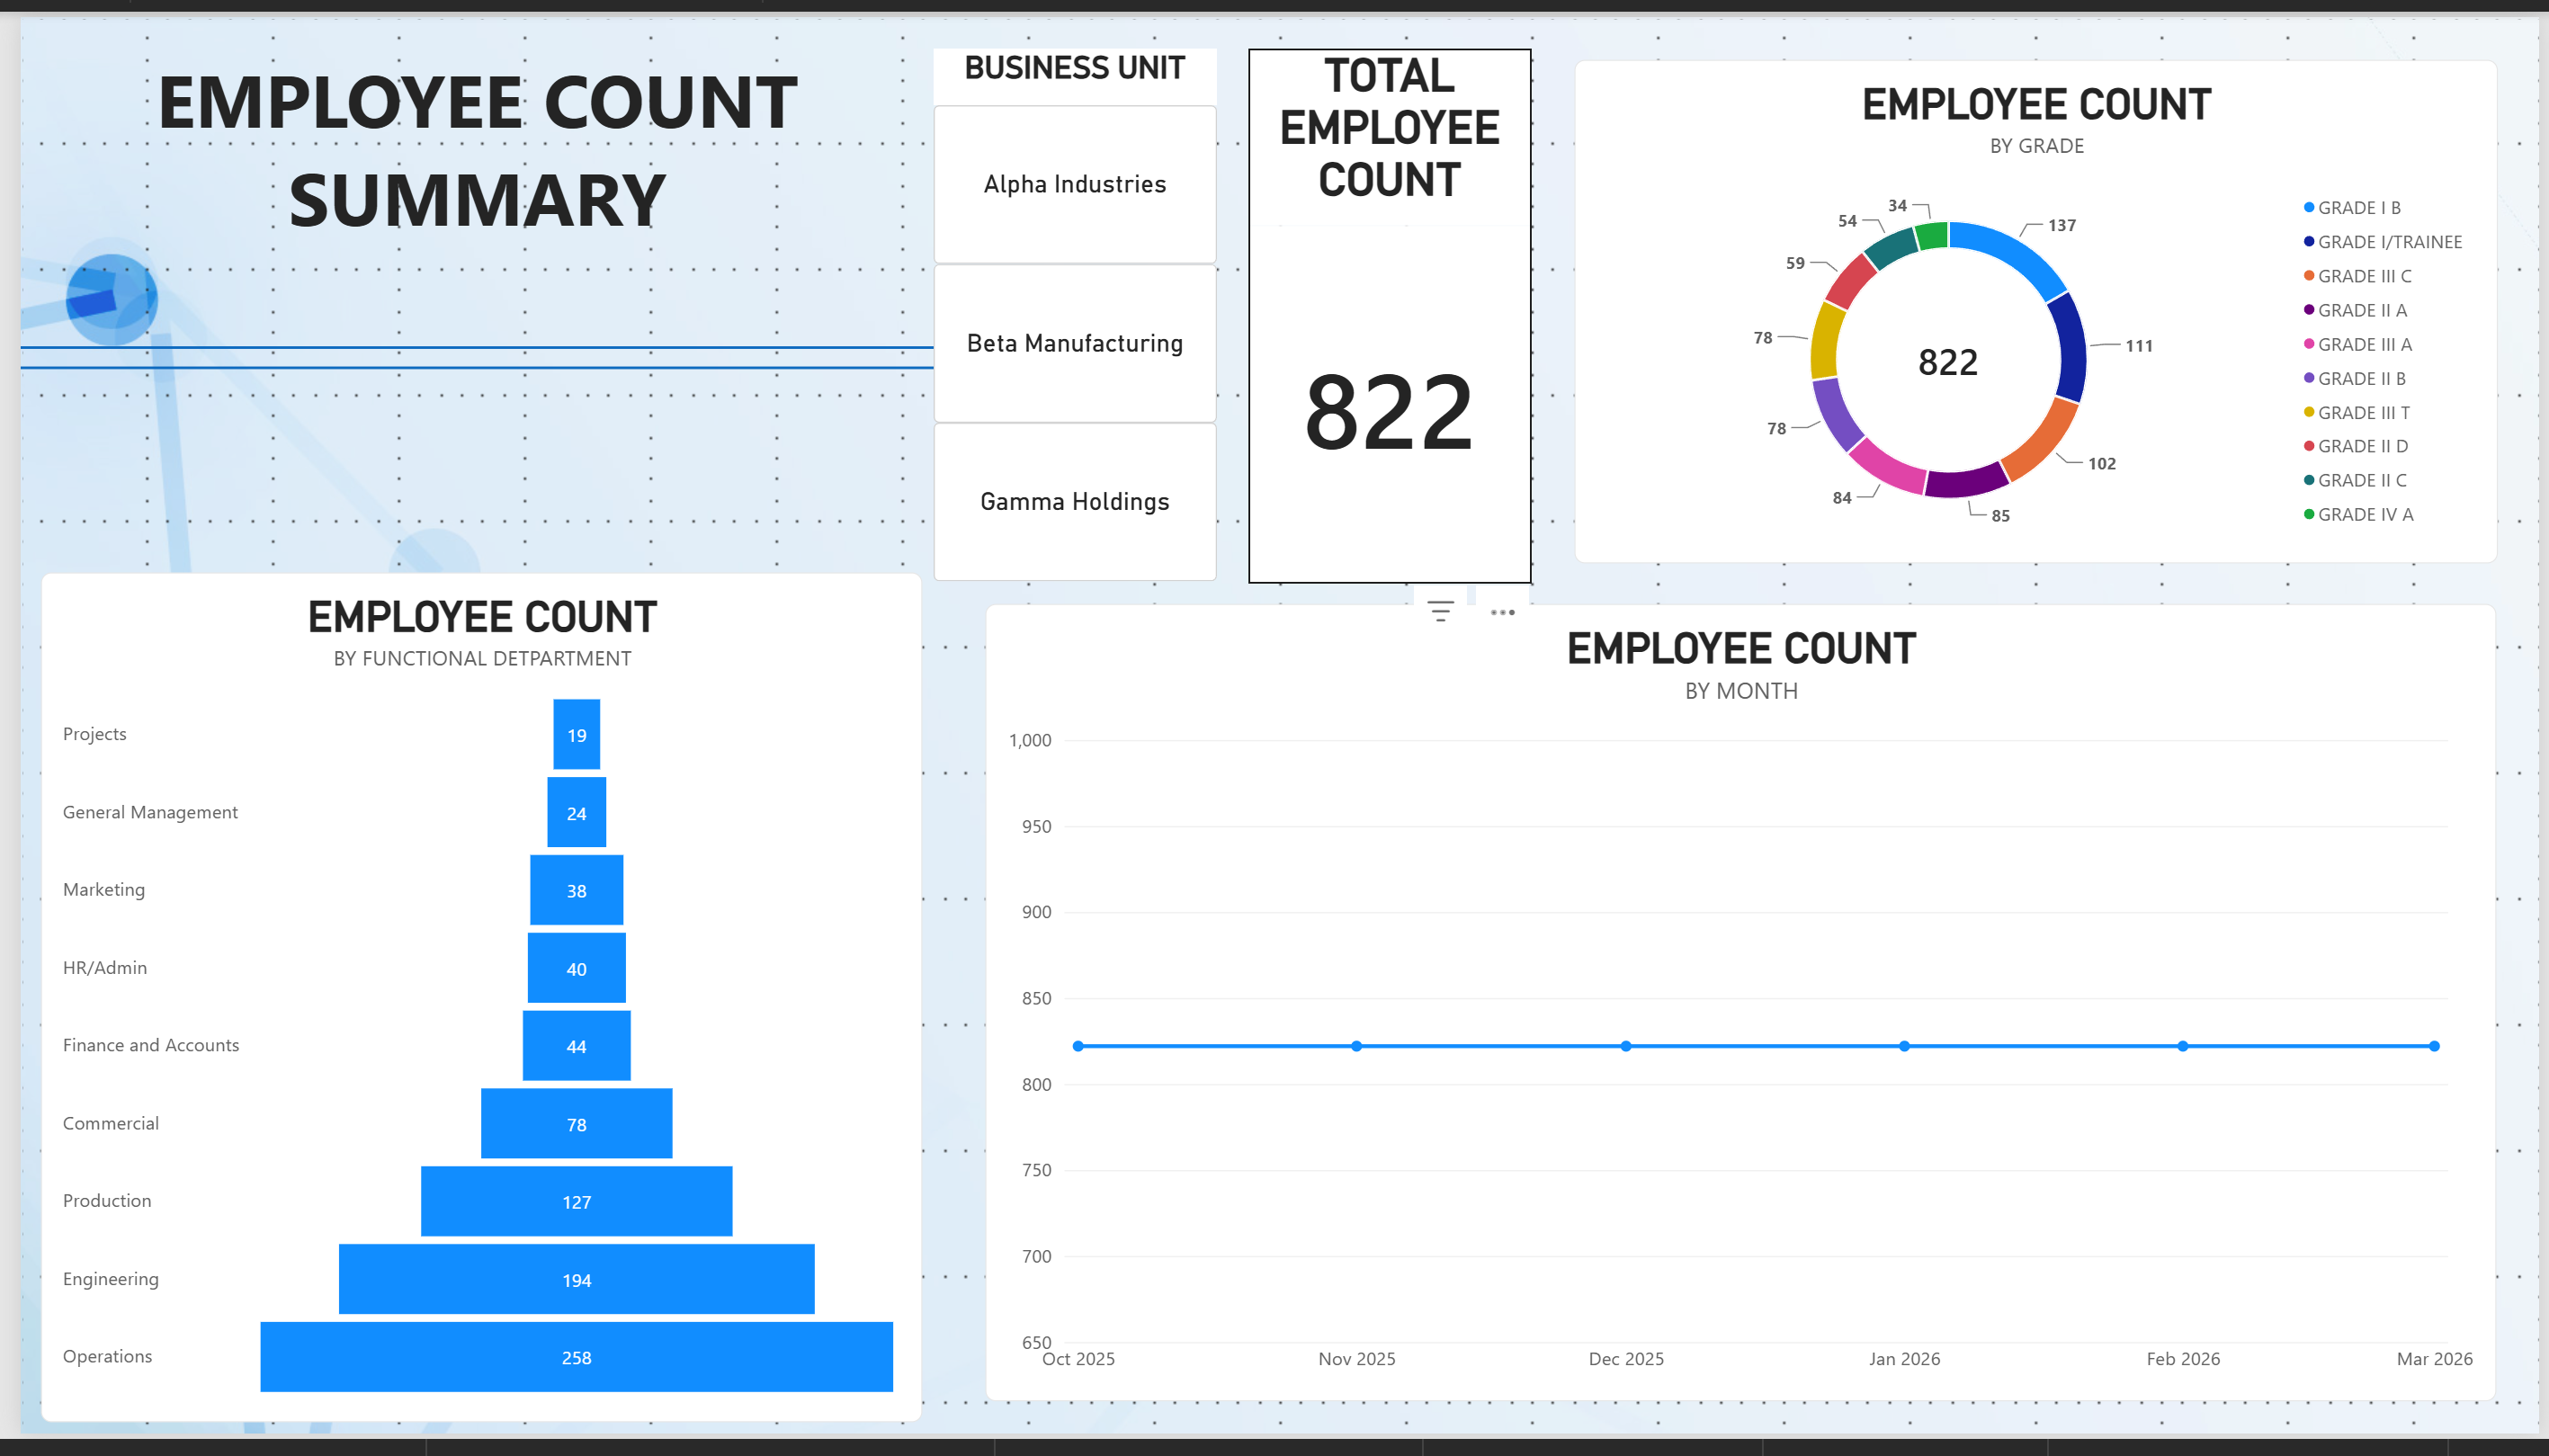

This screenshot's page, from the dashboard's own definition file:
{"tool":"powerbi","page":{"name":"EMPLOYEE COUNT OVERVIEW","canvas":[1920,1080],"ordinal":0},"visuals":[{"type":"funnel","title":"EMPLOYEE COUNT","fields":{"Y":["CountNonNull(DIM_EMP_NO.EMP_NO)"],"Category":["DIM_EMP_NO.FUNCTION_DEPT"]},"box":[16,424,672,648],"z":0},{"type":"lineChart","title":"EMPLOYEE COUNT","fields":{"Y":["CountNonNull(Salary Data.EMP_NO)"],"Category":["Salary Data.MONTH_YEAR"]},"box":[736,448,1152,608],"z":1000},{"type":"advancedSlicerVisual","title":"BUSINESS UNIT","fields":{"Values":["DIM_BUSINESS_UNIT.BUSINESS_UNIT"]},"box":[696,24,216,408],"z":2000},{"type":"cardVisual","title":"TOTAL EMPLOYEE COUNT","fields":{"Data":["Count(Salary Data.EMP_NO)"]},"box":[936,24,216,408],"z":3000},{"type":"donutChart","title":"EMPLOYEE COUNT","fields":{"Y":["CountNonNull(DIM_EMP_NO.EMP_NO)"],"Category":["DIM_EMP_NO.EMP_GRADE_NAME"]},"box":[1184,32,704,384],"z":4000},{"type":"textbox","box":[0,24,696,216],"z":5000},{"type":"shape","box":[0,96,696,312],"z":6000},{"type":"shape","box":[0,112,696,312],"z":7000}]}

Visuals, with their boxes in screenshot pixels (x1, y1, x2, y2), scaled from the page's 1920x1080 canvas onto the 2549x1456 screenshot:
"EMPLOYEE COUNT" funnel: 22,572,914,1445
"EMPLOYEE COUNT" lineChart: 977,604,2507,1424
"BUSINESS UNIT" advancedSlicerVisual: 924,32,1211,583
"TOTAL EMPLOYEE COUNT" cardVisual: 1243,32,1529,583
"EMPLOYEE COUNT" donutChart: 1572,43,2507,561
textbox: 0,32,924,324
shape: 0,130,924,550
shape: 0,151,924,572
